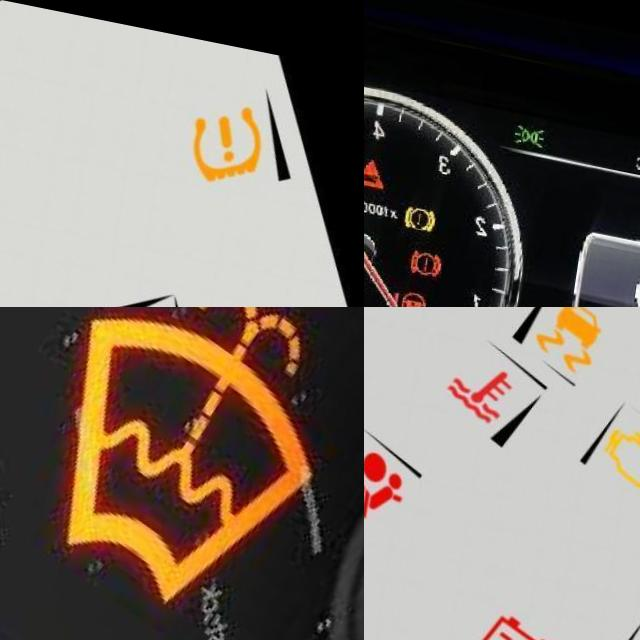Washer Fluid: (67, 307, 340, 607)
